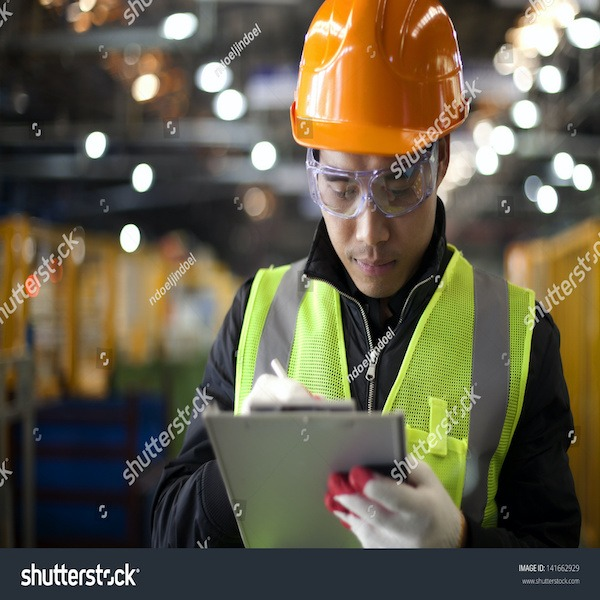helmet: (293, 9, 467, 148)
vest: (245, 263, 530, 543)
